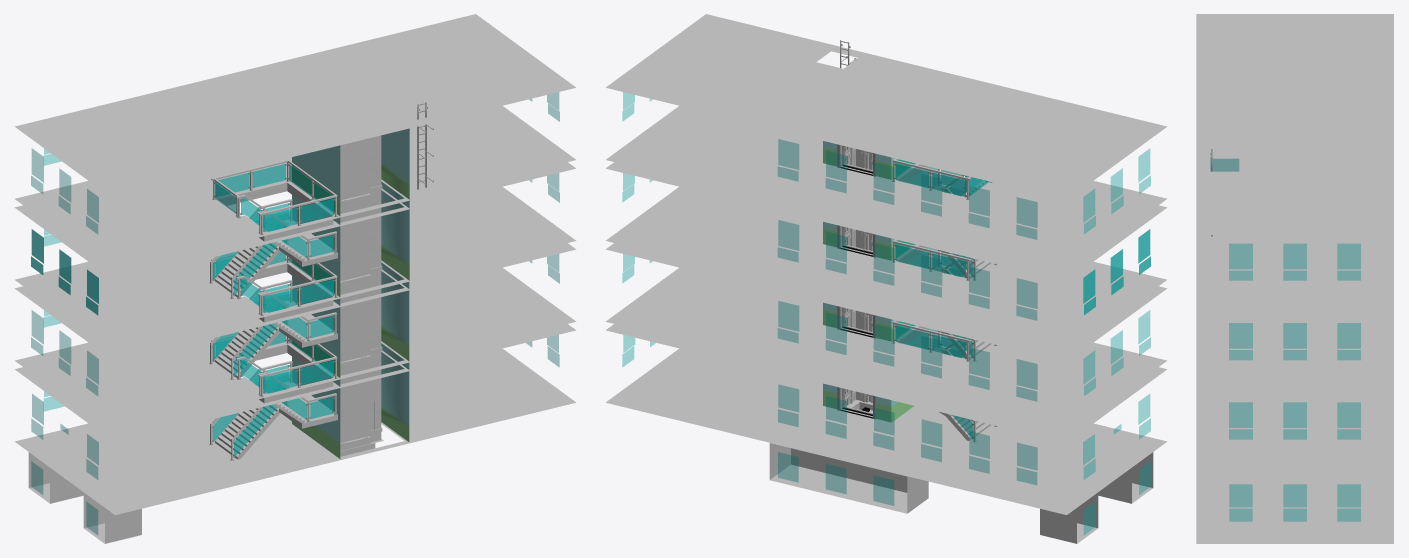
Rendered from SM_Building10_V2_Interior.fbx.
3 views of the same model, side by side, from view 1: azimuth 30°, elevation 25°; view 2: azimuth 150°, elevation 25°; view 3: azimuth 270°, elevation 25° (orthographic).
Visible parts, largest first — view 1: SM_Building10_V2_Interior; view 2: SM_Building10_V2_Interior; view 3: SM_Building10_V2_Interior.
Part boxes in pixels (x1,y1,x2,y2): SM_Building10_V2_Interior: [14, 14, 576, 543]; SM_Building10_V2_Interior: [605, 14, 1167, 543]; SM_Building10_V2_Interior: [1196, 14, 1393, 543].
Bounding box in the file's own units: 2421 × 1839 × 916.
